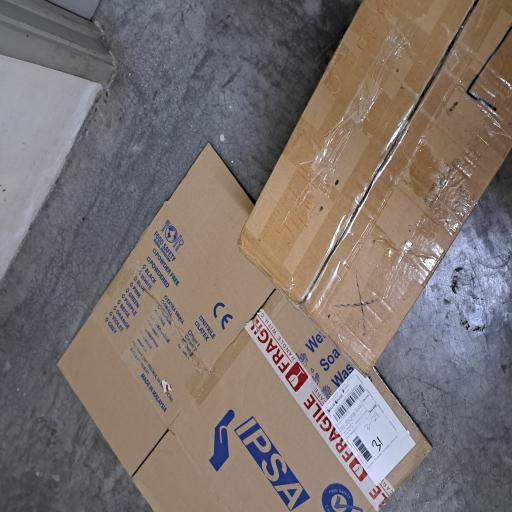cardboard: (0, 72, 276, 512), (101, 314, 384, 512)
